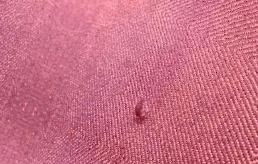knot: (131, 97, 153, 124)
